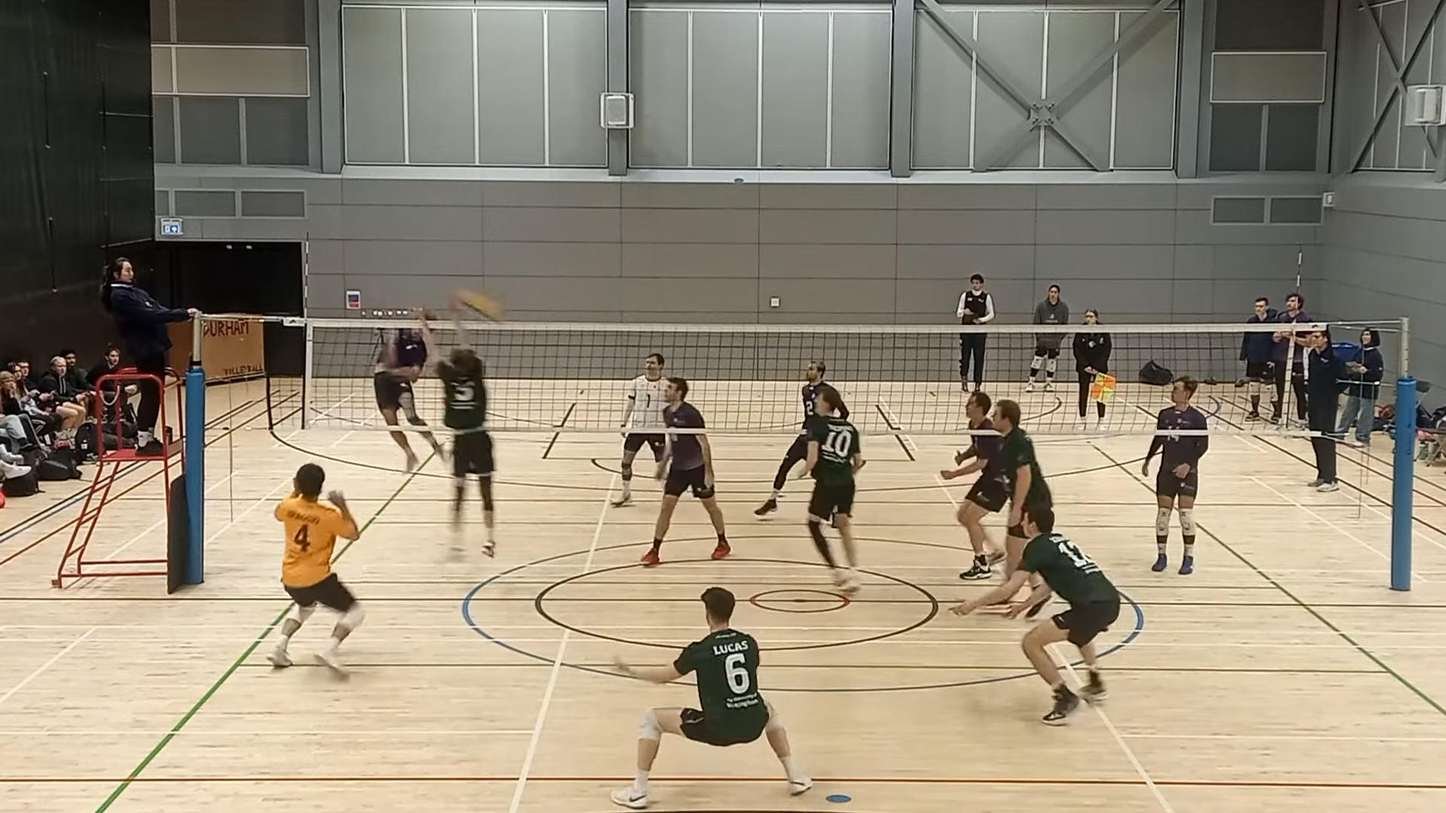attacco: (373, 294, 453, 470)
muro: (411, 296, 498, 563)
